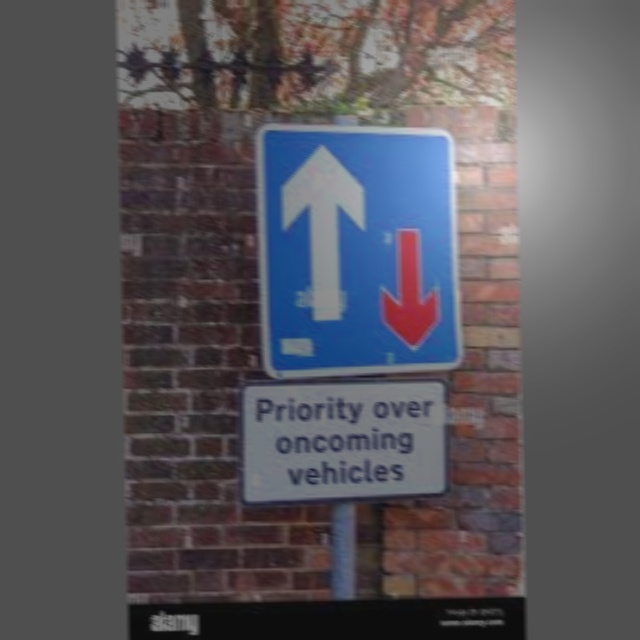Priority_for_Oncoming_Traffic: (265, 128, 459, 368)
